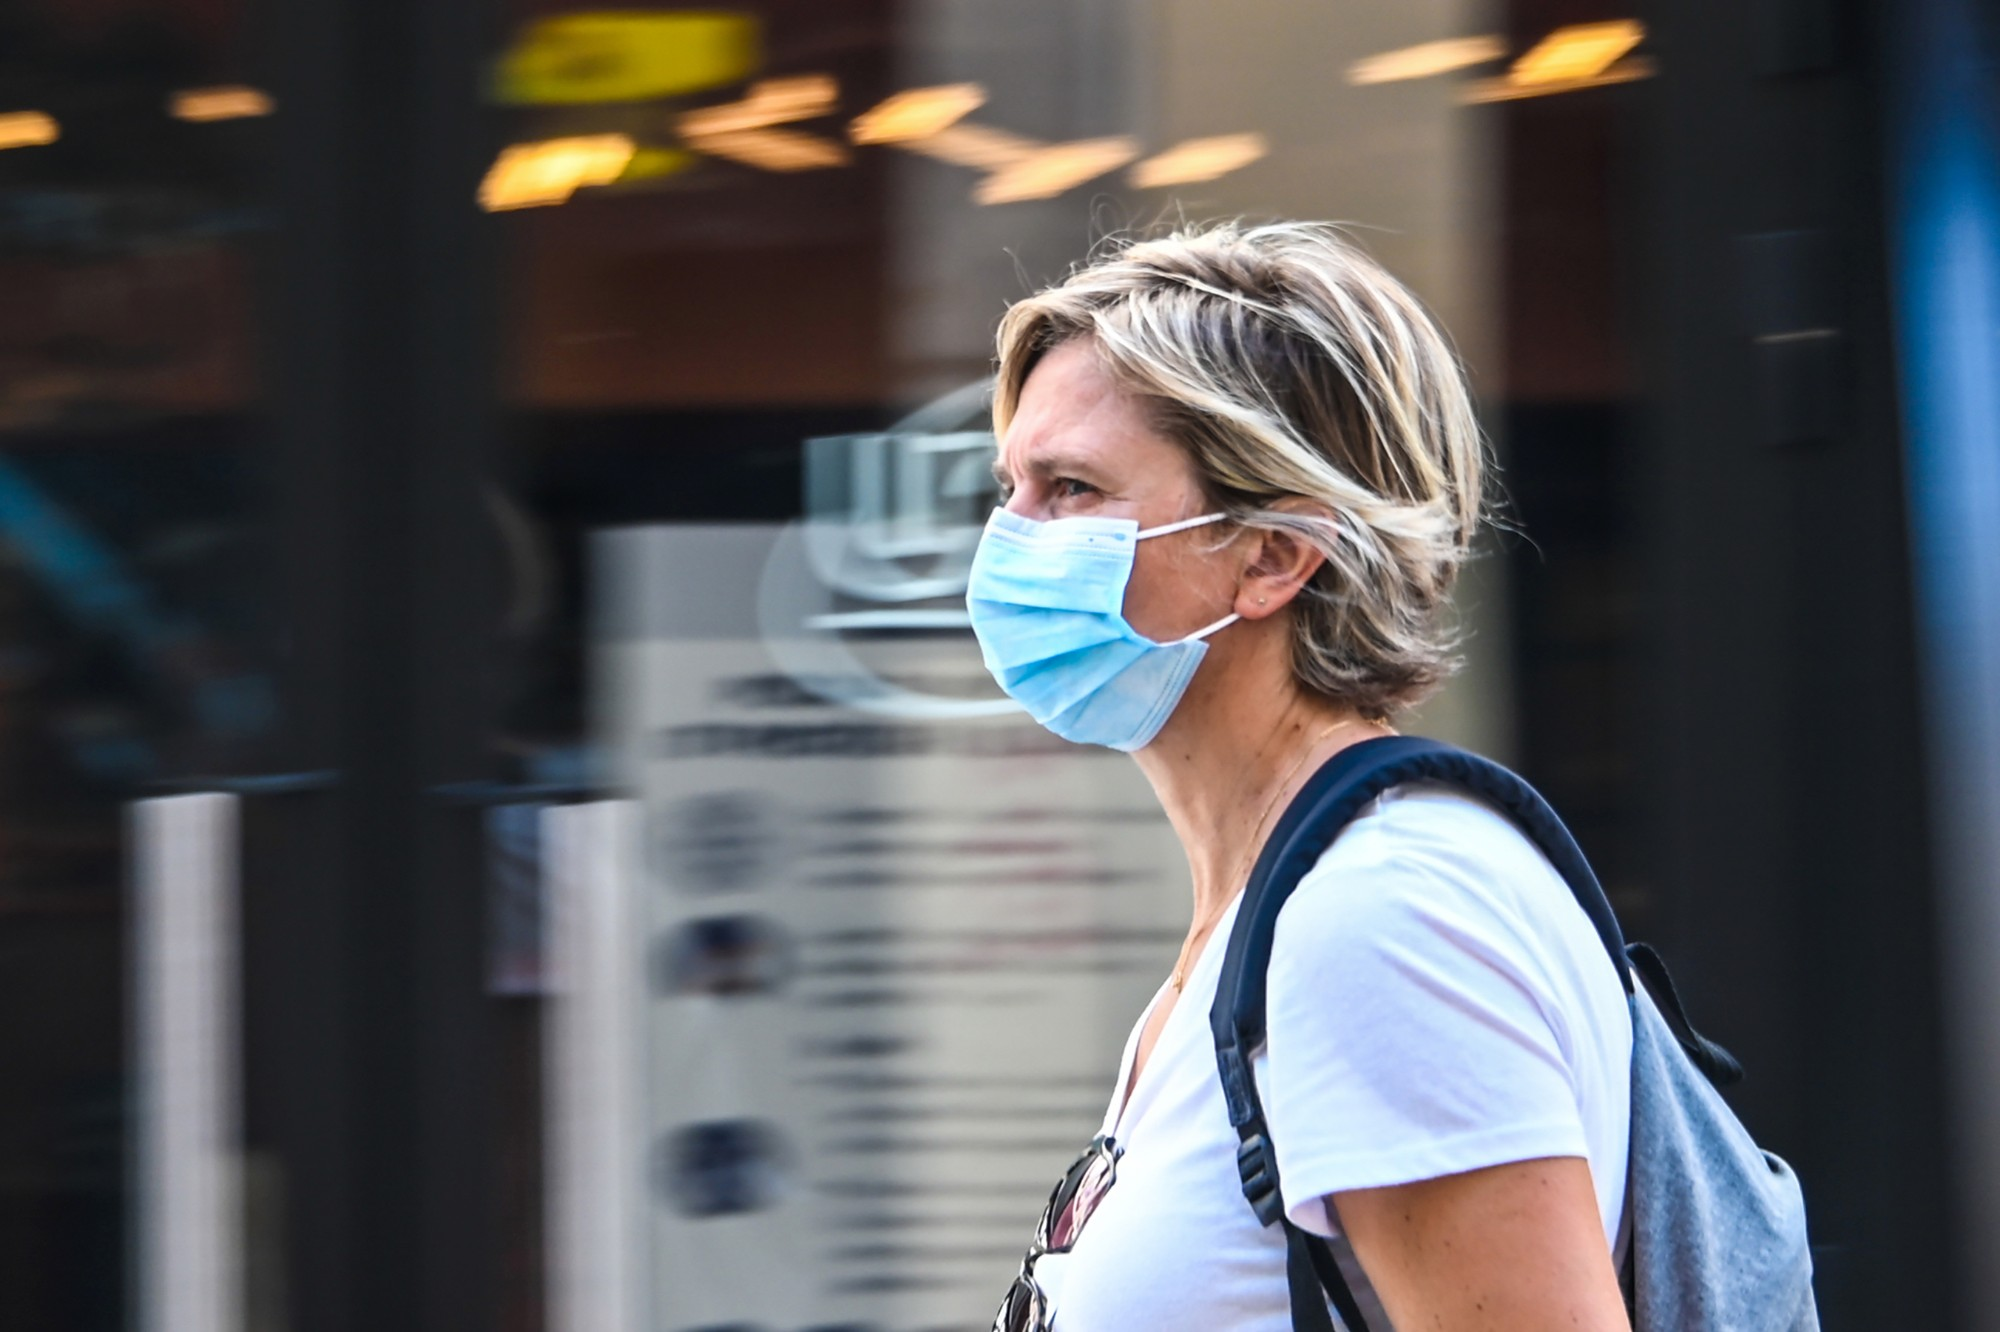with_mask: (989, 422, 1205, 715)
